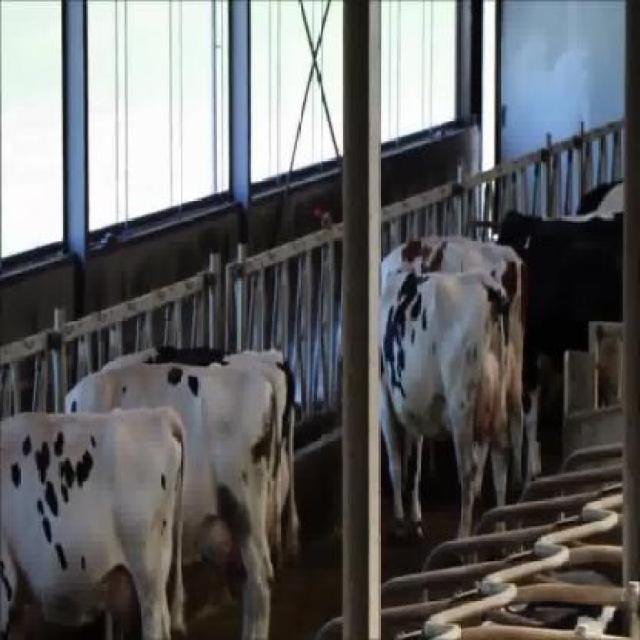Cow: (66, 362, 283, 638), (0, 398, 200, 638), (380, 268, 515, 563)
